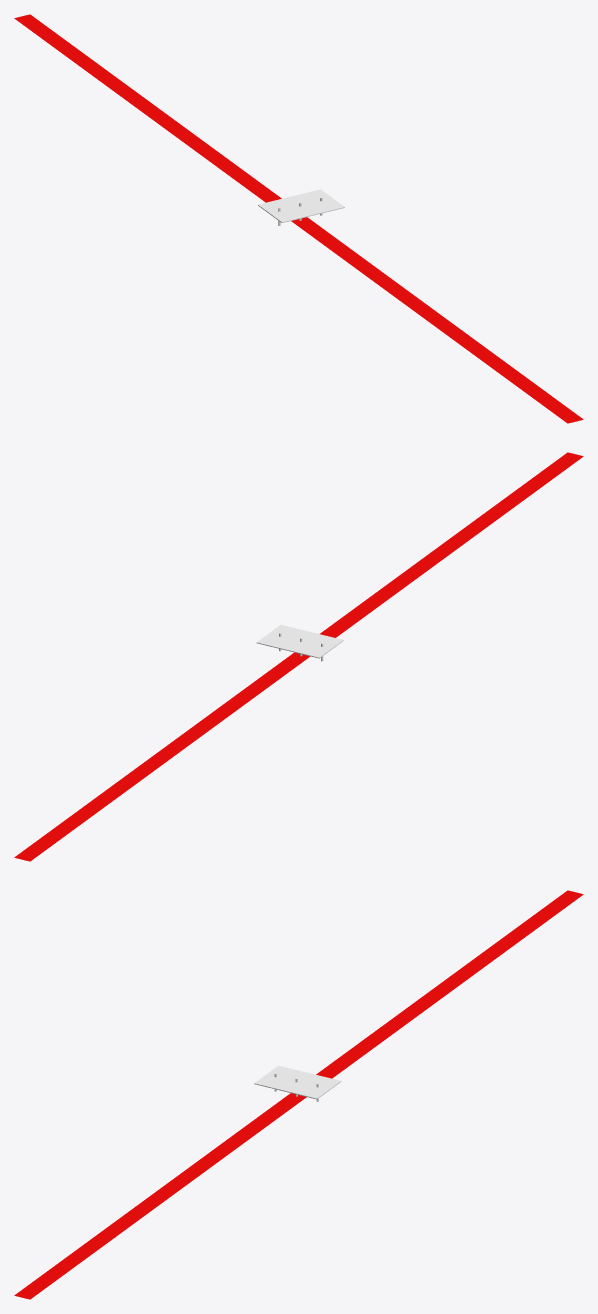
File: LydiaRx_border-scene.gltf
3 renders of one model, top to bottom at view 1: azimuth 30°, elevation 25°; view 2: azimuth 150°, elevation 25°; view 3: azimuth 330°, elevation 25°, orthographic.
Parts seen in each view (by area): view 1: Group; view 2: Group; view 3: Group.
Part boxes in pixels (box(x1,y1,x2,y2)): Group: box(14, 14, 583, 423); Group: box(14, 452, 583, 861); Group: box(14, 890, 583, 1299).
Bounding box in the file's own units: 30 × 8 × 457.
